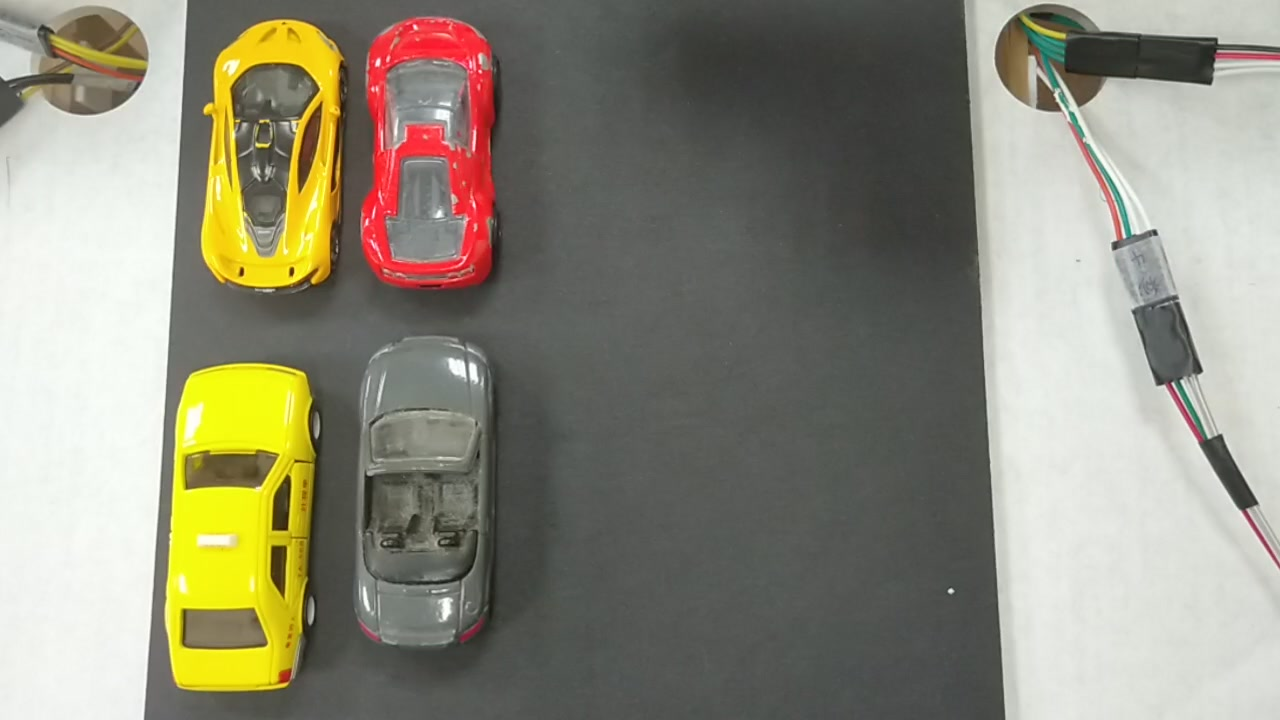car: (162, 362, 310, 689), (201, 13, 347, 293), (360, 336, 490, 643), (369, 10, 495, 286)
